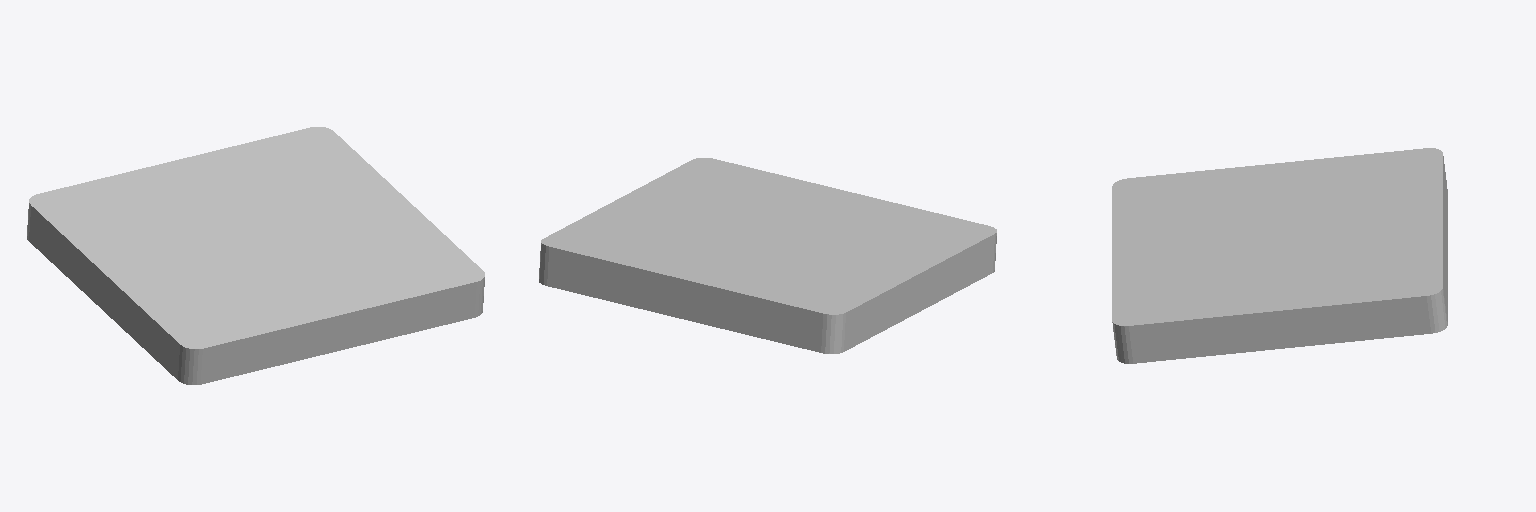
The model's file is original-37.obj.
3 views of the same model, side by side, from view 1: azimuth 30°, elevation 25°; view 2: azimuth 150°, elevation 25°; view 3: azimuth 270°, elevation 25° (orthographic).
Visible parts, largest first — view 1: mesh36/mesh36-geometry#mesh36-geometry; view 2: mesh36/mesh36-geometry#mesh36-geometry; view 3: mesh36/mesh36-geometry#mesh36-geometry.
Boxes of the visible parts, x1=… form: mesh36/mesh36-geometry#mesh36-geometry: x1=27, y1=127, x2=484, y2=384; mesh36/mesh36-geometry#mesh36-geometry: x1=539, y1=158, x2=996, y2=353; mesh36/mesh36-geometry#mesh36-geometry: x1=1112, y1=148, x2=1447, y2=363.
Bounding box in the file's own units: 0.1061 × 0.0238 × 0.1019.